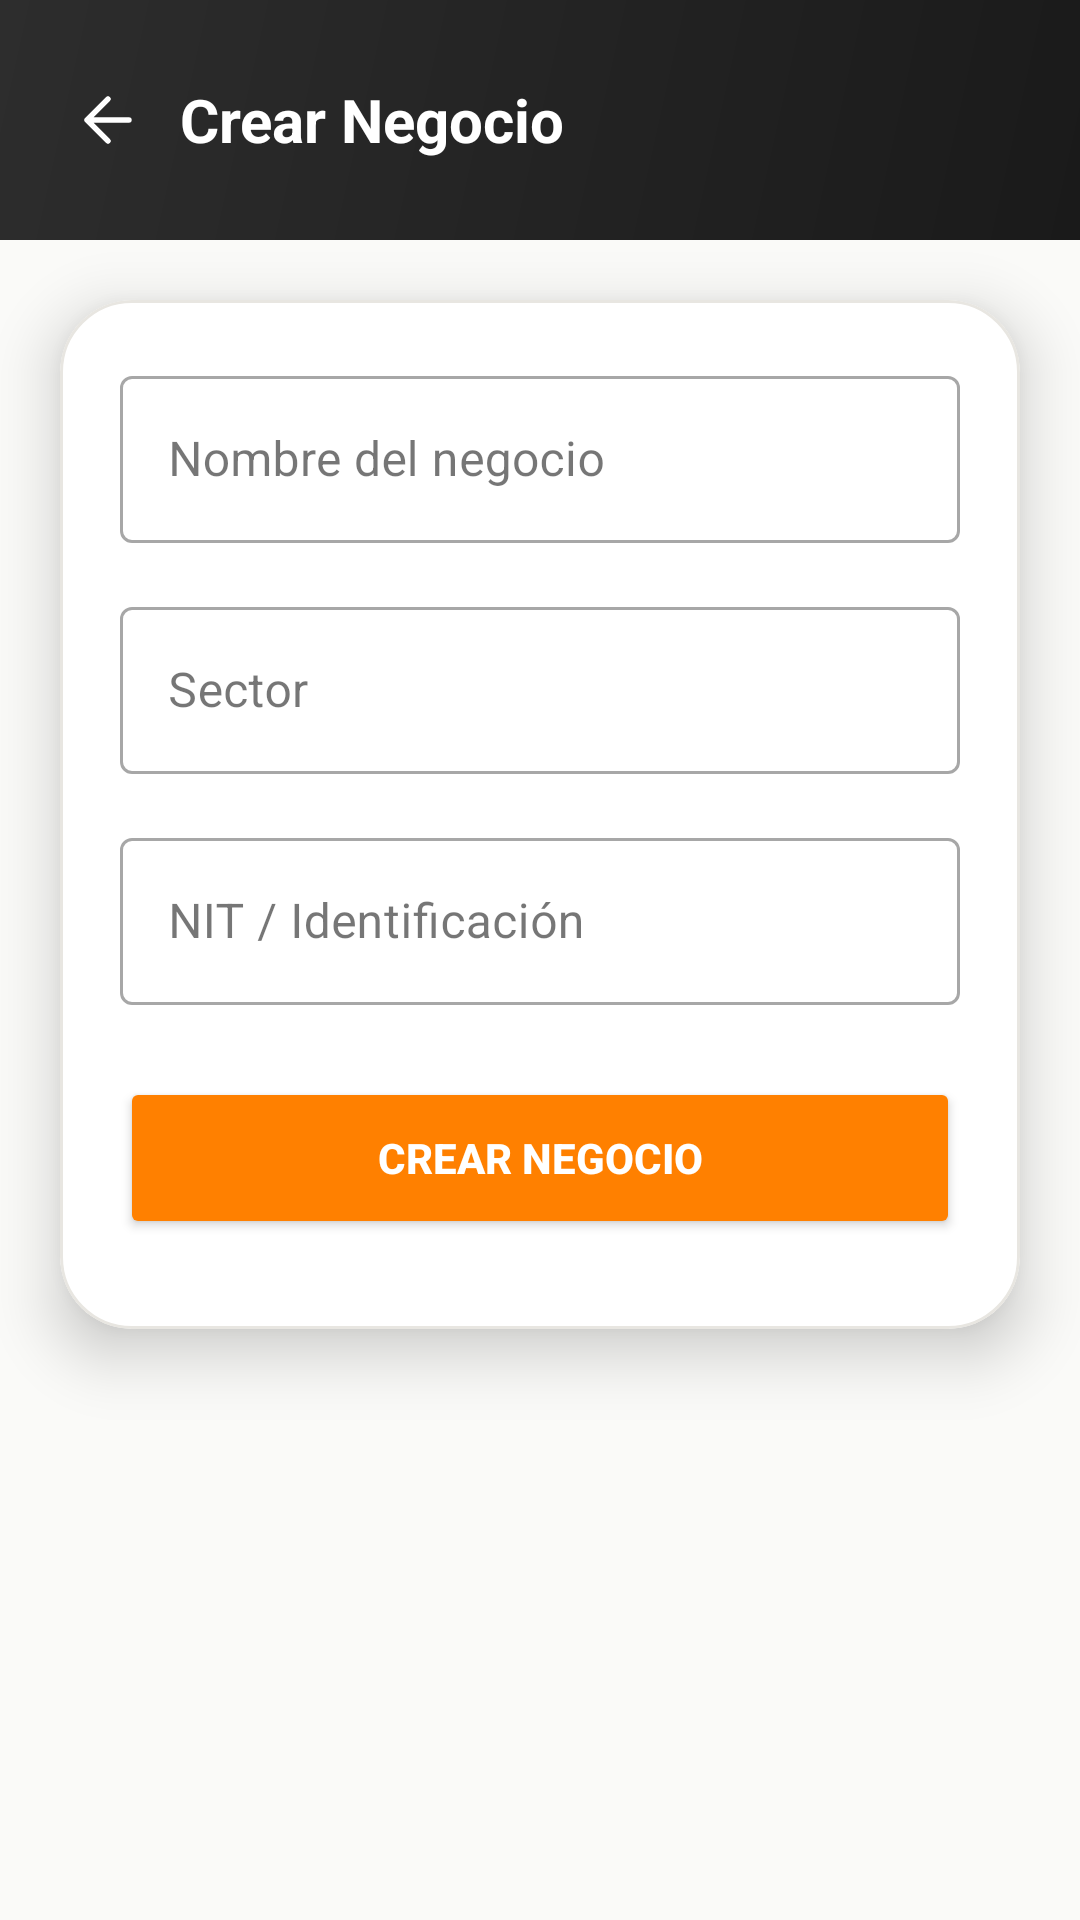

Icons on this 1080 x 1920 Android screen, each with the point to tap as [x,y]:
Volver: [108,120]
